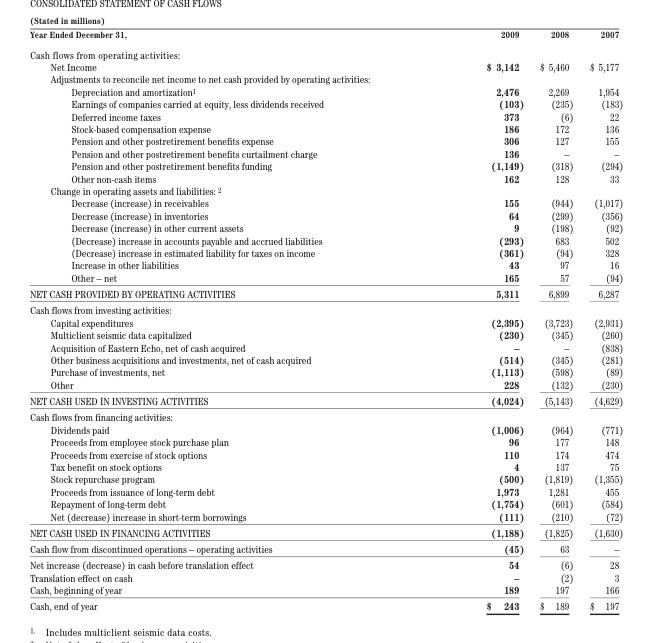table: (29, 28, 622, 611)
table column: (29, 28, 404, 611), (404, 28, 531, 611), (531, 28, 580, 611), (580, 28, 622, 611)
table column header: (29, 28, 622, 43)
table projected row header: (29, 43, 622, 60), (29, 301, 622, 315), (29, 408, 622, 422), (29, 72, 622, 84), (29, 184, 622, 196)
table row: (29, 43, 622, 60), (29, 285, 622, 301), (29, 392, 622, 408), (29, 524, 622, 540), (29, 540, 622, 556), (29, 28, 622, 43), (29, 270, 622, 285), (29, 377, 622, 392), (29, 509, 622, 524), (29, 301, 622, 315), (29, 408, 622, 422), (29, 556, 622, 570), (29, 583, 622, 597), (29, 597, 622, 611), (29, 84, 622, 97), (29, 109, 622, 122), (29, 146, 622, 159), (29, 171, 622, 184), (29, 208, 622, 221), (29, 233, 622, 246), (29, 315, 622, 328), (29, 340, 622, 353), (29, 422, 622, 435), (29, 447, 622, 460), (29, 484, 622, 497), (29, 570, 622, 583), (29, 60, 622, 72), (29, 72, 622, 84), (29, 97, 622, 109), (29, 122, 622, 134), (29, 134, 622, 146), (29, 159, 622, 171), (29, 184, 622, 196), (29, 196, 622, 208), (29, 221, 622, 233), (29, 246, 622, 258), (29, 258, 622, 270), (29, 328, 622, 340), (29, 353, 622, 365), (29, 365, 622, 377), (29, 435, 622, 447), (29, 460, 622, 472), (29, 472, 622, 484), (29, 497, 622, 509)
